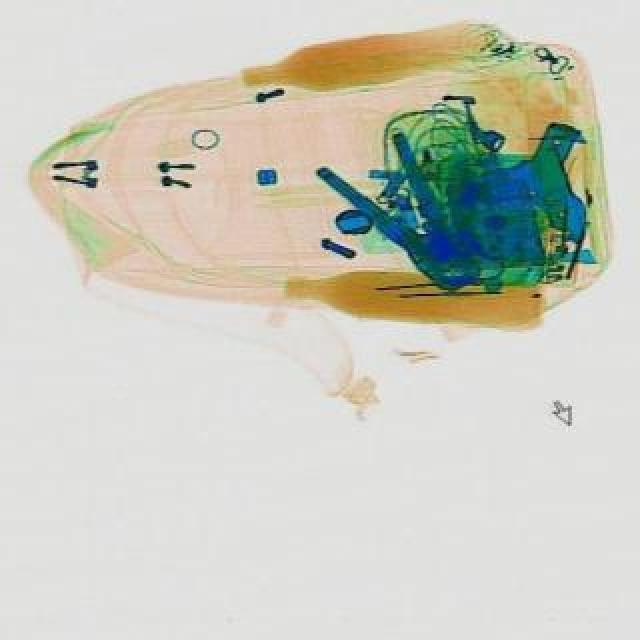wrench: (318, 120, 510, 314)
